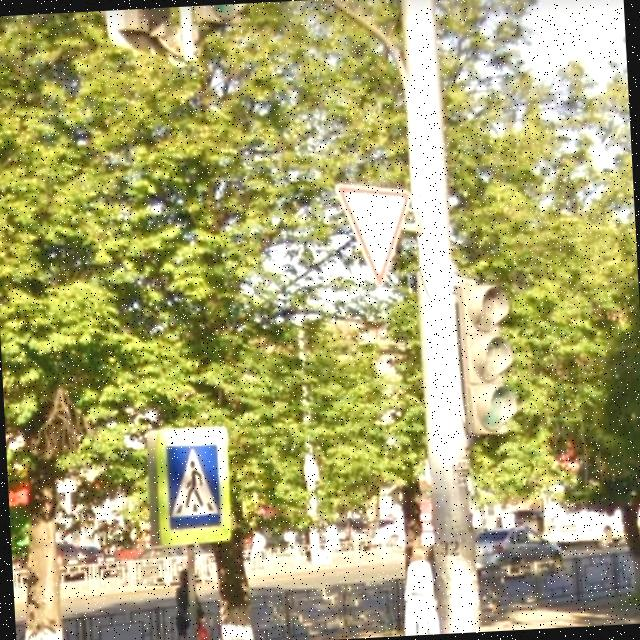Przejscie dla pieszych: (150, 421, 236, 551)
Ustap pierwszenstwa: (330, 170, 422, 293)
